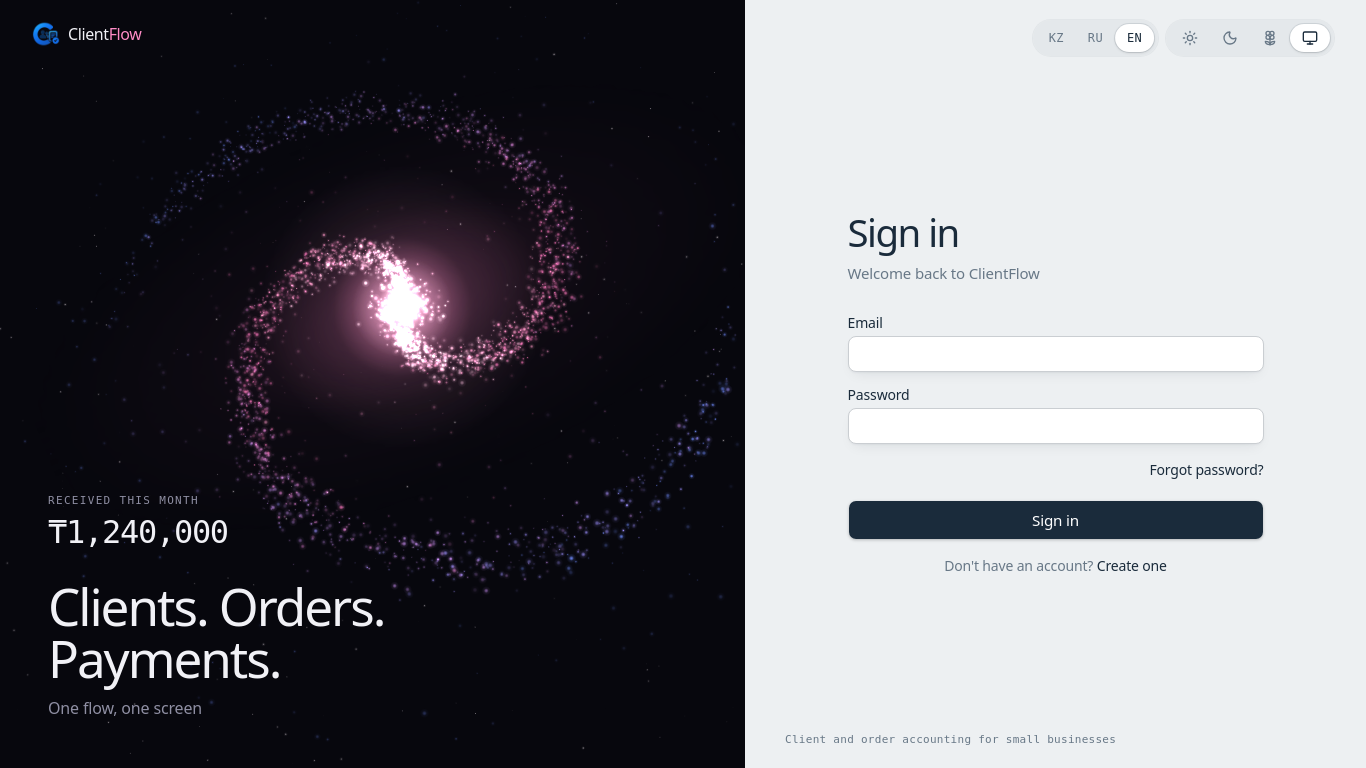
Test: login page › offers a new verification link when the email is not confirmed
Type "aigerim@example.com" into the field labelled "Email". click: (1056, 354)
box: [848,336,1264,372]
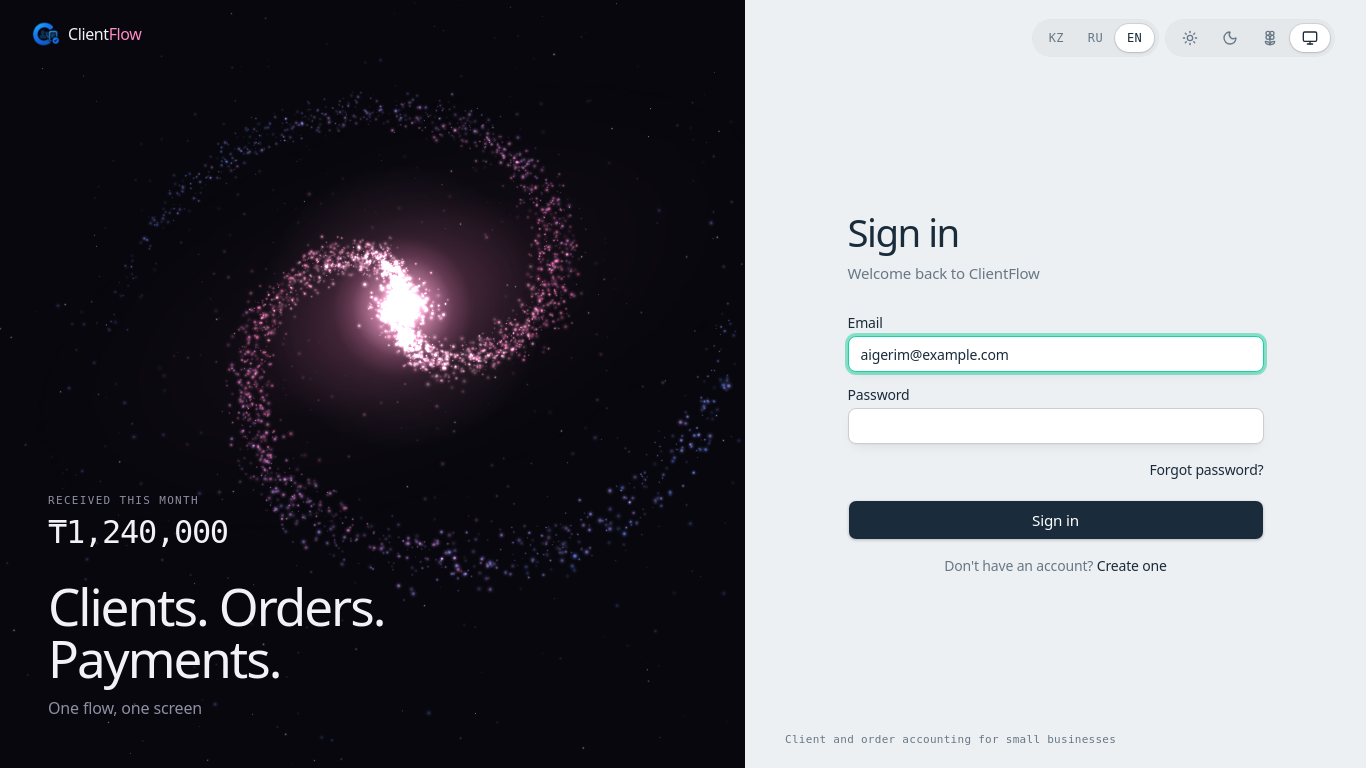
Type "Str0ngPassw0rd!" into the password field labelled "Password". click: (1056, 426)
box: [848,408,1264,444]
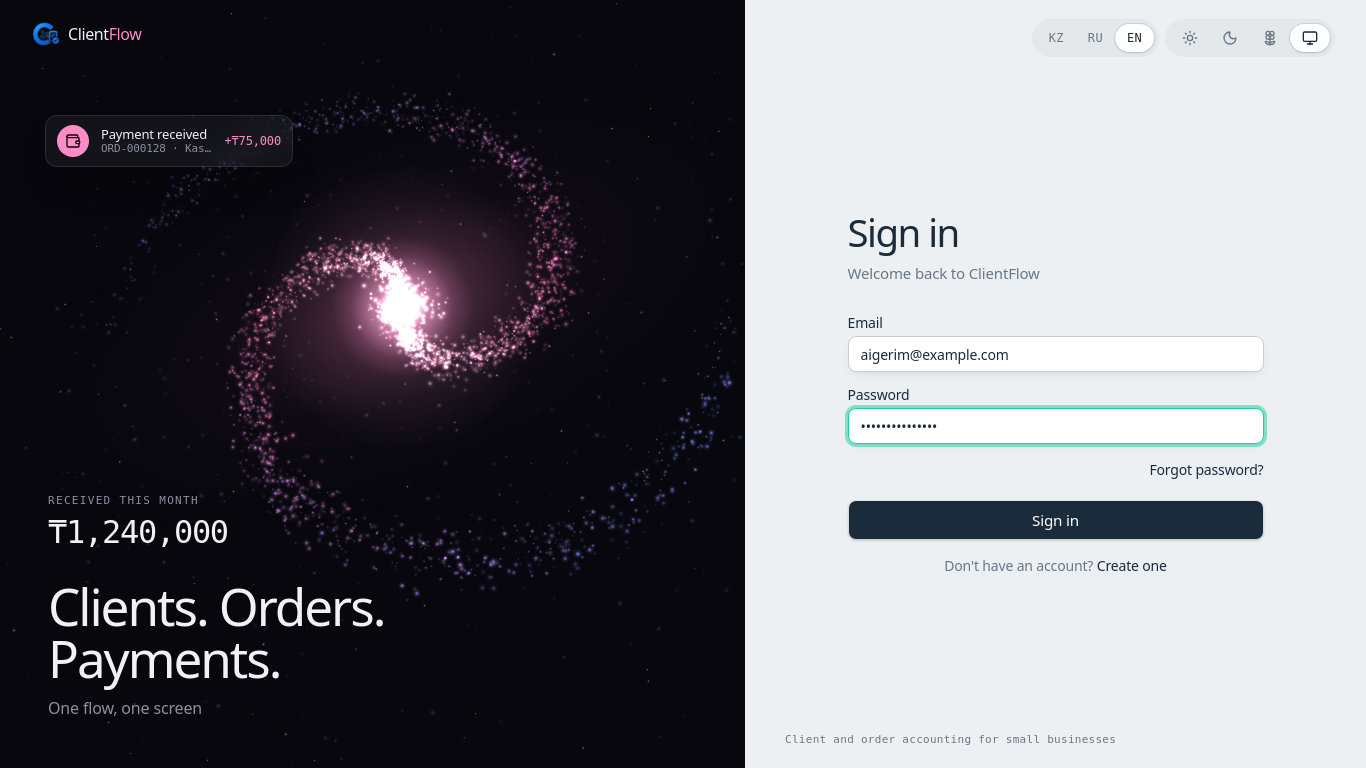
Click the button "Sign in". click: (1056, 520)
box: [848,500,1264,540]
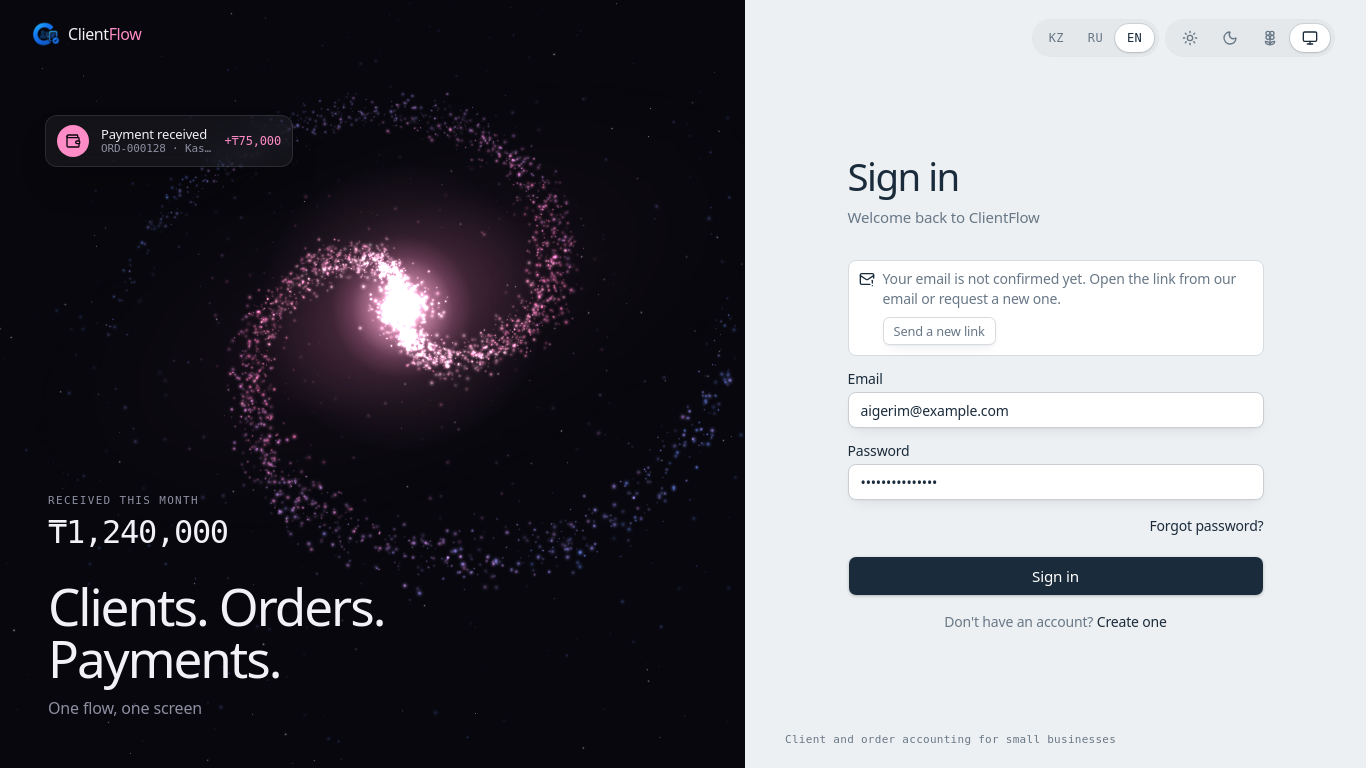
Click the button "Send a new link". click: (939, 331)
box: [882,317,996,345]
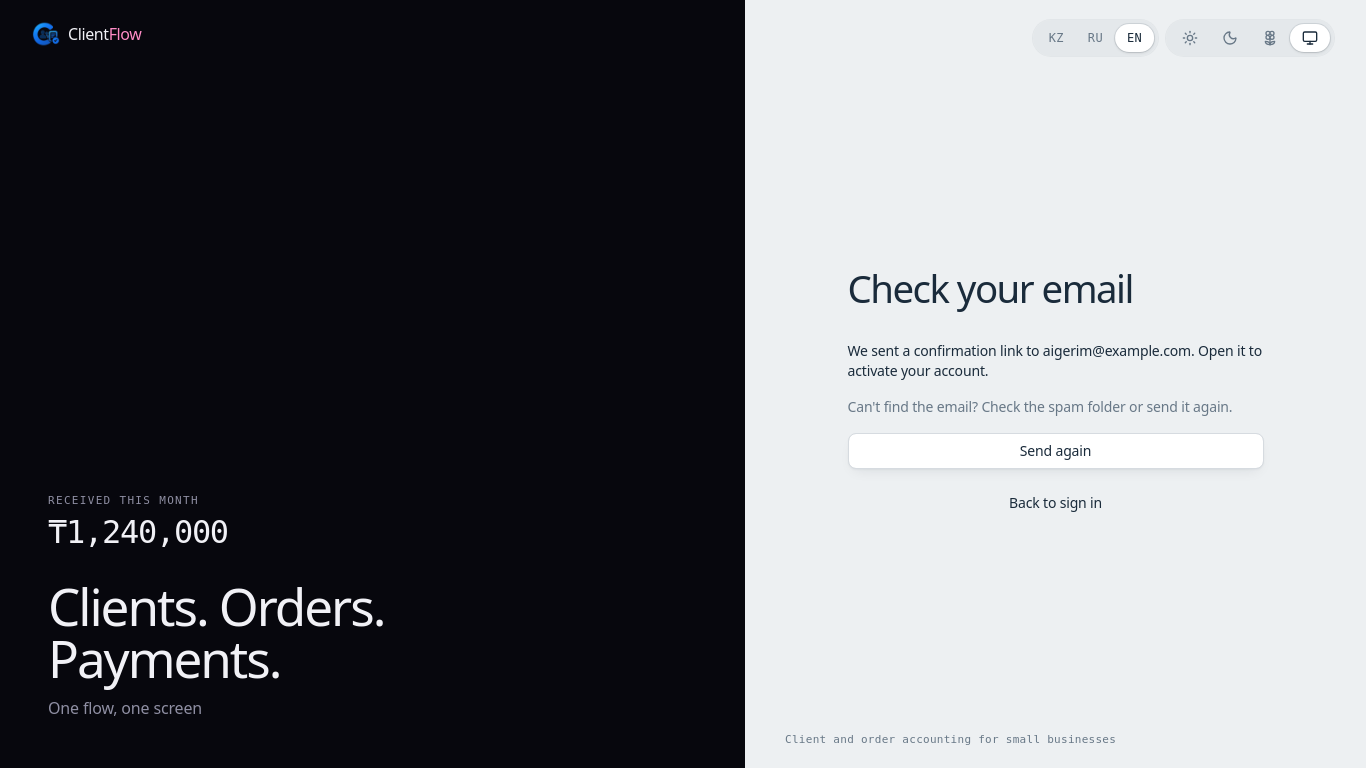
Now the heading "Check your email" is shown, box [848,262,1133,314]
